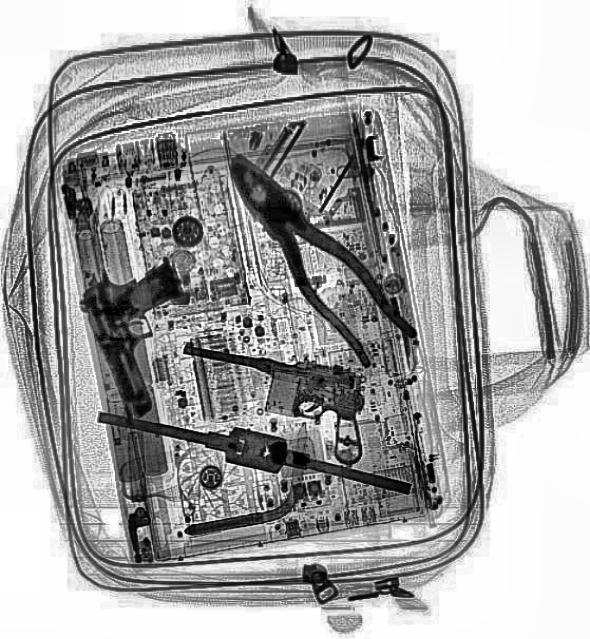Gun: (165, 332, 378, 469), (74, 254, 214, 424)
Pliers: (208, 134, 420, 376)
